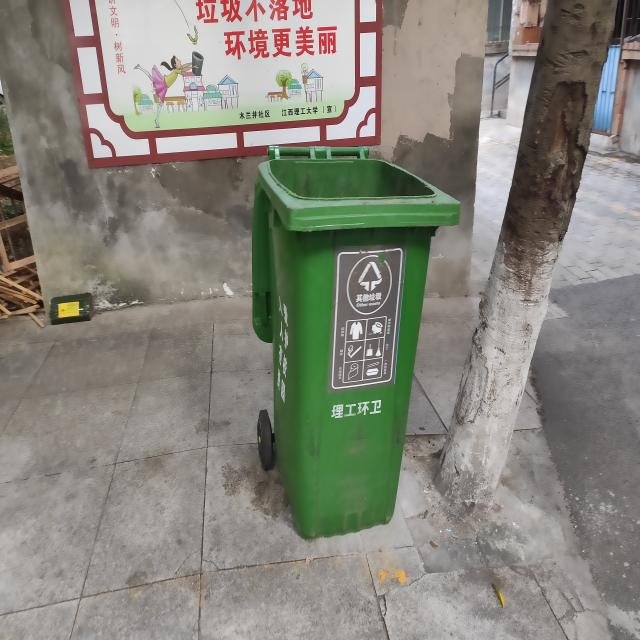ash bin: (245, 140, 461, 540)
